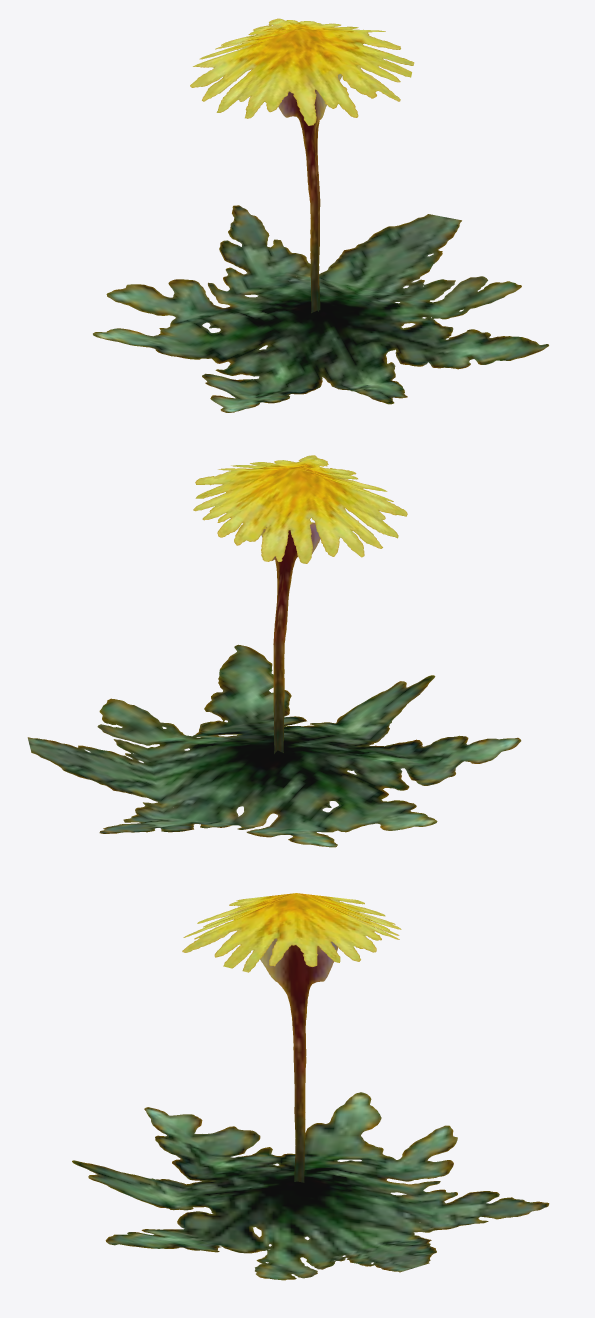
Rendered from flw_s01_y_ani.static.glb.
3 renders of one model, top to bottom at view 1: azimuth 30°, elevation 25°; view 2: azimuth 150°, elevation 25°; view 3: azimuth 270°, elevation 25°, orthographic. The views are drawn at different scales.
Visible parts, largest first — view 1: flw_s01_y_ani; view 2: flw_s01_y_ani; view 3: flw_s01_y_ani.
Part boxes in pixels (x1,y1,x2,y2): flw_s01_y_ani: [93, 18, 548, 412]; flw_s01_y_ani: [27, 455, 521, 847]; flw_s01_y_ani: [72, 893, 549, 1280].
Bounding box in the file's own units: 0.4355 × 0.2761 × 0.4579.
1 material, 1 textured.
